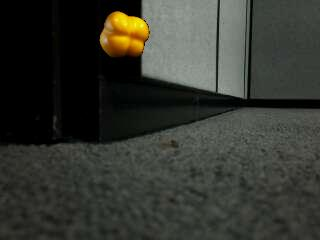Capsicum: (98, 8, 152, 63)
